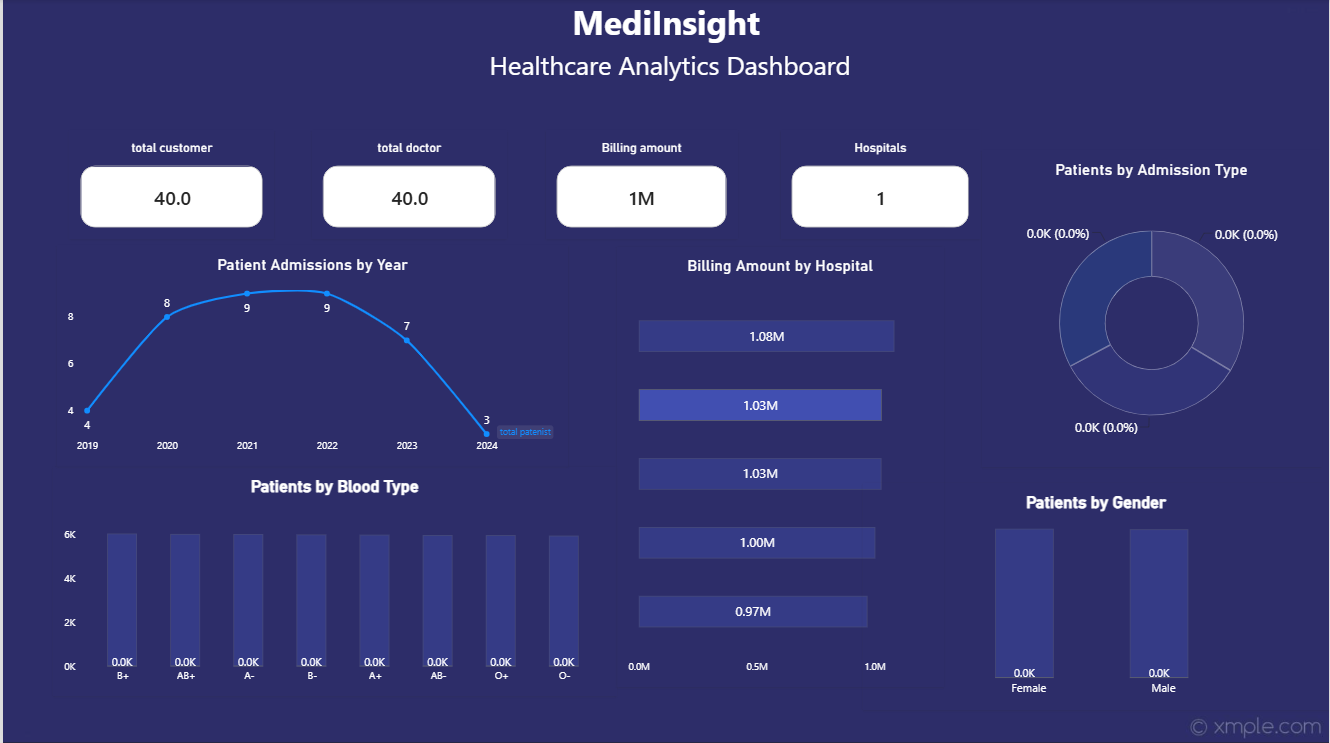

Layout of this report page (visuals, bound fields, positions):
{"tool":"powerbi","page":{"name":"Page 1","canvas":[1920,1080],"ordinal":0},"visuals":[{"type":"cardVisual","title":"total customer","fields":{"Data":["Count(healthcare_dataset.Name)"]},"box":[96.7,189.4,296.8,157.4],"z":0},{"type":"cardVisual","title":"total doctor","fields":{"Data":["Count(healthcare_dataset.Doctor)"]},"box":[446.2,189.4,282.3,157.4],"z":1000},{"type":"cardVisual","title":"Billing amount","fields":{"Data":["healthcare_dataset.Billing_amount"]},"box":[786.3,189.4,278.7,157.4],"z":2000},{"type":"cardVisual","title":"Hospitals","fields":{"Data":["healthcare_dataset.Total Hospital"]},"box":[1125.5,189.4,289.5,157.4],"z":3000},{"type":"barChart","title":"Billing Amount by Hospital","fields":{"Category":["healthcare_dataset.Hospital"],"Y":["healthcare_dataset.Billing_amount"]},"box":[889.2,358.1,473.4,638.1],"z":4000},{"type":"donutChart","title":"Patients by Admission Type","fields":{"Category":["healthcare_dataset.Admission Type"],"Y":["healthcare_dataset.total patenist"]},"box":[1416.1,218.2,491.9,459],"z":5000},{"type":"clusteredColumnChart","title":"Patients by Blood Type","fields":{"Category":["healthcare_dataset.Blood Type"],"Y":["healthcare_dataset.total patenist"]},"box":[72,677.2,816.2,333],"z":6000},{"type":"lineChart","title":"Patient Admissions by Year","fields":{"Category":["healthcare_dataset.Date of Admission.Variation.Date Hierarchy.Year","healthcare_dataset.Date of Admission.Variation.Date Hierarchy.Quarter","healthcare_dataset.Date of Admission.Variation.Date Hierarchy.Month","healthcare_dataset.Date of Admission.Variation.Date Hierarchy.Day"],"Y":["healthcare_dataset.total patenist"]},"box":[78.2,356.1,741,321.1],"z":7000},{"type":"clusteredColumnChart","title":"Patients by Gender","fields":{"Category":["healthcare_dataset.Gender"],"Y":["healthcare_dataset.total patenist"]},"box":[1245.3,699.8,675.1,329.3],"z":8000},{"type":"textbox","box":[121,61.5,297,157],"z":9000},{"type":"textbox","box":[354,0,1210.3,131.7],"z":10000}]}

Visuals, with their boxes in screenshot pixels (x1, y1, x2, y2), scaled from the page's 1920x1080 canvas onto the 1330x743 screenshot:
"total customer" cardVisual: bbox=[67, 130, 273, 239]
"total doctor" cardVisual: bbox=[309, 130, 505, 239]
"Billing amount" cardVisual: bbox=[545, 130, 738, 239]
"Hospitals" cardVisual: bbox=[780, 130, 980, 239]
"Billing Amount by Hospital" barChart: bbox=[616, 246, 944, 685]
"Patients by Admission Type" donutChart: bbox=[981, 150, 1322, 466]
"Patients by Blood Type" clusteredColumnChart: bbox=[50, 466, 615, 695]
"Patient Admissions by Year" lineChart: bbox=[54, 245, 567, 466]
"Patients by Gender" clusteredColumnChart: bbox=[863, 481, 1329, 708]
textbox: bbox=[84, 42, 290, 150]
textbox: bbox=[245, 0, 1084, 91]
